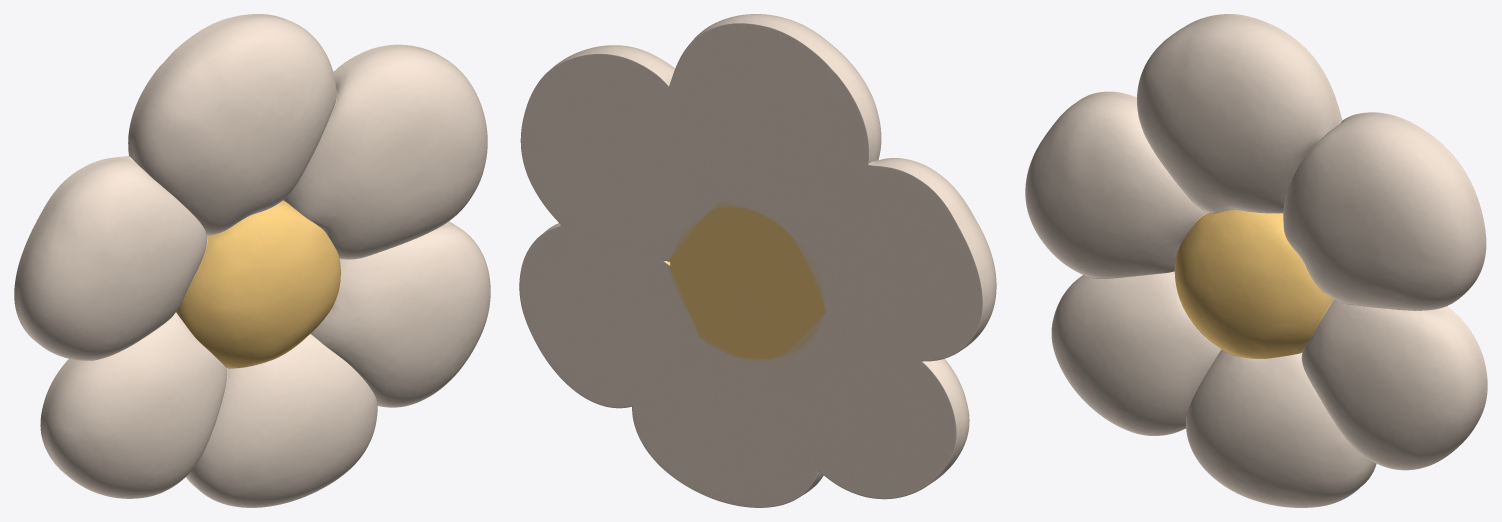
The model's file is daisy-pillow.glb.
3 renders of one model, left to right at view 1: azimuth 30°, elevation 25°; view 2: azimuth 150°, elevation 25°; view 3: azimuth 330°, elevation 25°, orthographic. The views are drawn at different scales.
Size of the model in its own units: 1.9 by 1.9 by 0.2439.
Materials: 1 (1 with a texture image).
